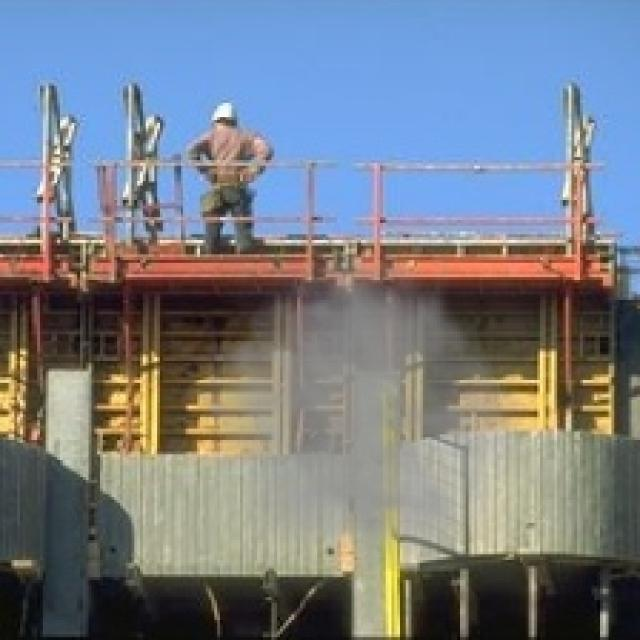Smoke: (177, 214, 543, 572)
